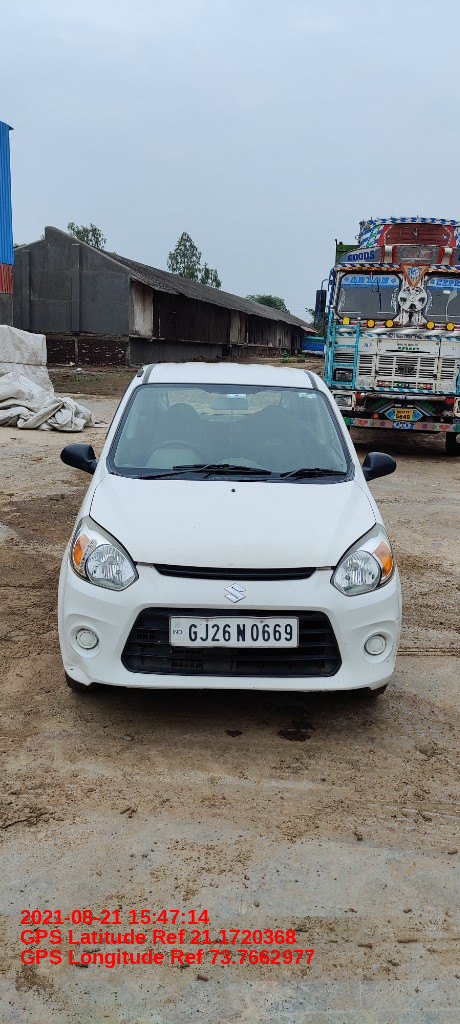Pressed: (62, 654, 101, 687)
Scratched: (381, 634, 399, 667)
